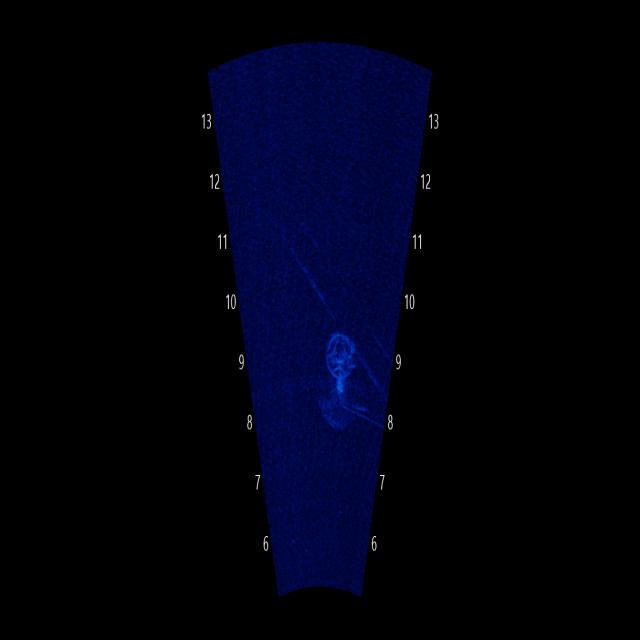circle: (316, 287, 366, 391)
